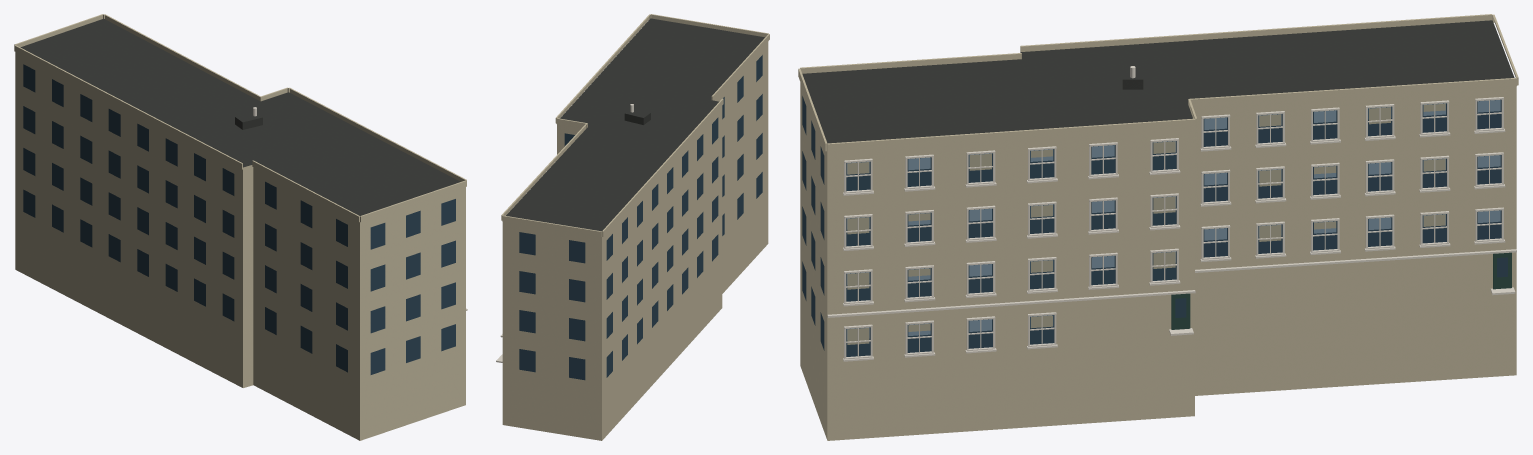
The picture shows the model from 3 angles, left to right: view 1: azimuth 30°, elevation 25°; view 2: azimuth 150°, elevation 25°; view 3: azimuth 270°, elevation 25°; orthographic projection. The views are drawn at different scales.
Parts seen in each view (by area): view 1: Footprint 0 / surface 2, Footprint 0 / surface 1, Inset glazing, Facade bay volumes; view 2: Footprint 0 / surface 2, Footprint 0 / surface 1, Inset glazing, Facade bay volumes; view 3: Footprint 0 / surface 2, Footprint 0 / surface 1, Cornices and window frames, Inset glazing, Facade bay volumes, Interior blind variation, Sky reflection panels, Storefronts and doors.
Part boxes in pixels (box(x1,y1,x2,y2)): Footprint 0 / surface 2: box(15, 52, 465, 440); Footprint 0 / surface 1: box(20, 18, 460, 215); Inset glazing: box(23, 64, 455, 374); Facade bay volumes: box(14, 14, 466, 222); Footprint 0 / surface 2: box(502, 42, 768, 440); Footprint 0 / surface 1: box(506, 18, 764, 231); Inset glazing: box(519, 55, 762, 380); Facade bay volumes: box(501, 14, 769, 237); Footprint 0 / surface 2: box(800, 82, 1516, 440); Footprint 0 / surface 1: box(802, 20, 1514, 143); Cornices and window frames: box(827, 97, 1516, 361); Inset glazing: box(802, 96, 1507, 356); Facade bay volumes: box(798, 14, 1518, 151); Interior blind variation: box(847, 103, 1445, 344); Sky reflection panels: box(847, 100, 1500, 339); Storefronts and doors: box(1171, 252, 1511, 329).
Size of the model in its own units: 18.02 by 20.08 by 41.97.
